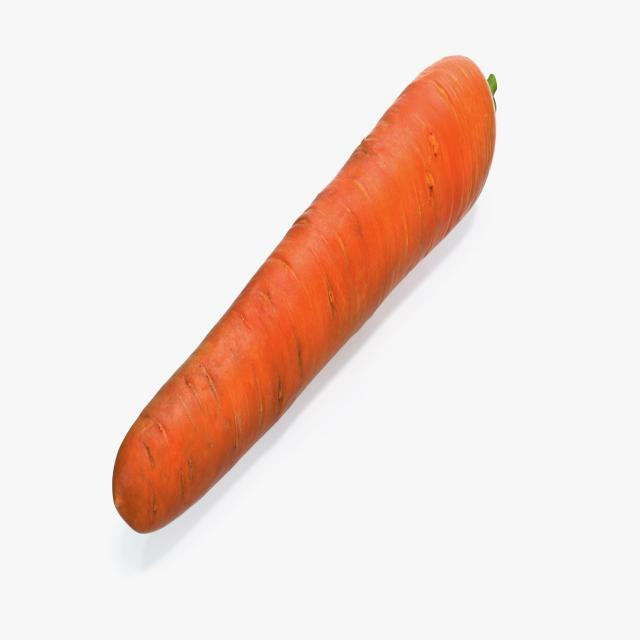carrot: (111, 48, 506, 537)
